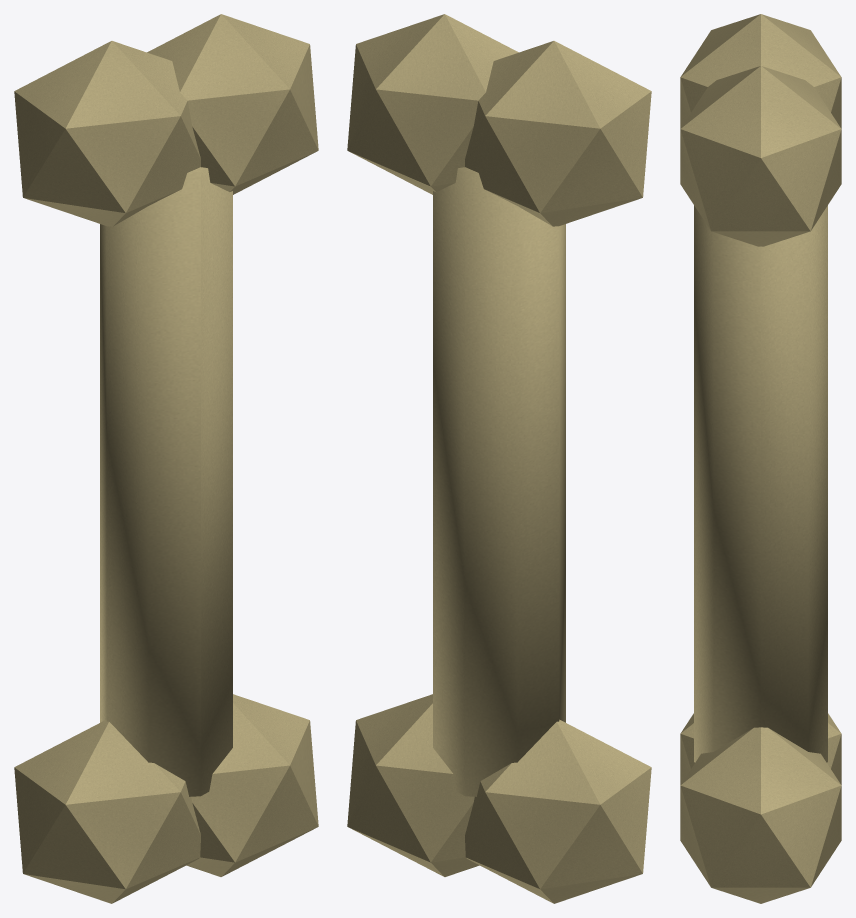
File: Kit_Bone.fbx
3 views of the same model, side by side, from view 1: azimuth 30°, elevation 25°; view 2: azimuth 150°, elevation 25°; view 3: azimuth 270°, elevation 25° (orthographic). The views are drawn at different scales.
Parts seen in each view (by area): view 1: Kit_Bone_Bone; view 2: Kit_Bone_Bone; view 3: Kit_Bone_Bone.
Part boxes in pixels (x1,y1,x2,y2): Kit_Bone_Bone: (14,14,318,903); Kit_Bone_Bone: (347,14,651,903); Kit_Bone_Bone: (680,14,841,903).
Size of the model in its own units: 0.1156 by 0.332 by 0.0578.
